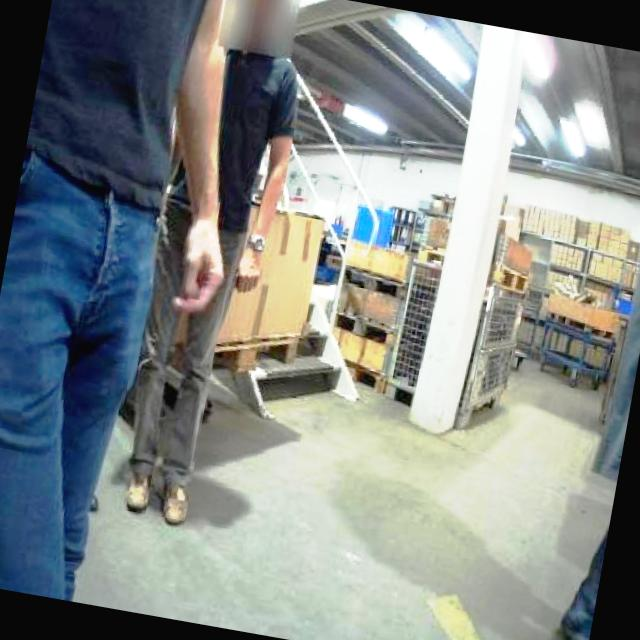ground: (0, 258, 635, 640)
pallet: (152, 141, 640, 482), (298, 181, 541, 437), (154, 188, 371, 433), (480, 199, 640, 393), (379, 253, 530, 435), (210, 198, 328, 364), (299, 230, 414, 393), (527, 287, 626, 393)
